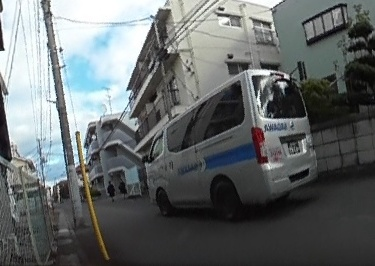person: (117, 177, 127, 199), (106, 179, 116, 201)
